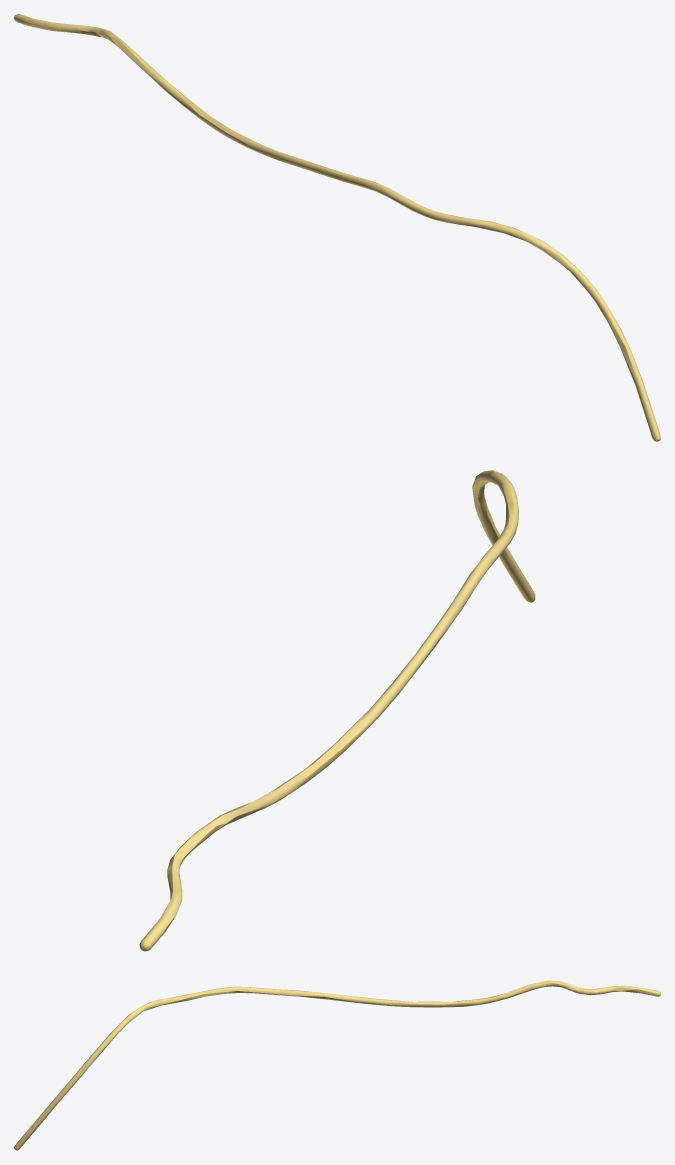
The model's file is fma52669_fj1361.glb.
The picture shows the model from 3 angles, top to bottom: view 1: azimuth 30°, elevation 25°; view 2: azimuth 150°, elevation 25°; view 3: azimuth 270°, elevation 25°; orthographic projection. The views are drawn at different scales.
Parts seen in each view (by area): view 1: FMA52669_FJ1361; view 2: FMA52669_FJ1361; view 3: FMA52669_FJ1361.
Part boxes in pixels (x1,y1,x2,y2): FMA52669_FJ1361: [14, 14, 660, 441]; FMA52669_FJ1361: [139, 470, 535, 951]; FMA52669_FJ1361: [14, 980, 660, 1150].
Size of the model in its own units: 0.0178 by 0.0155 by 0.0748.
